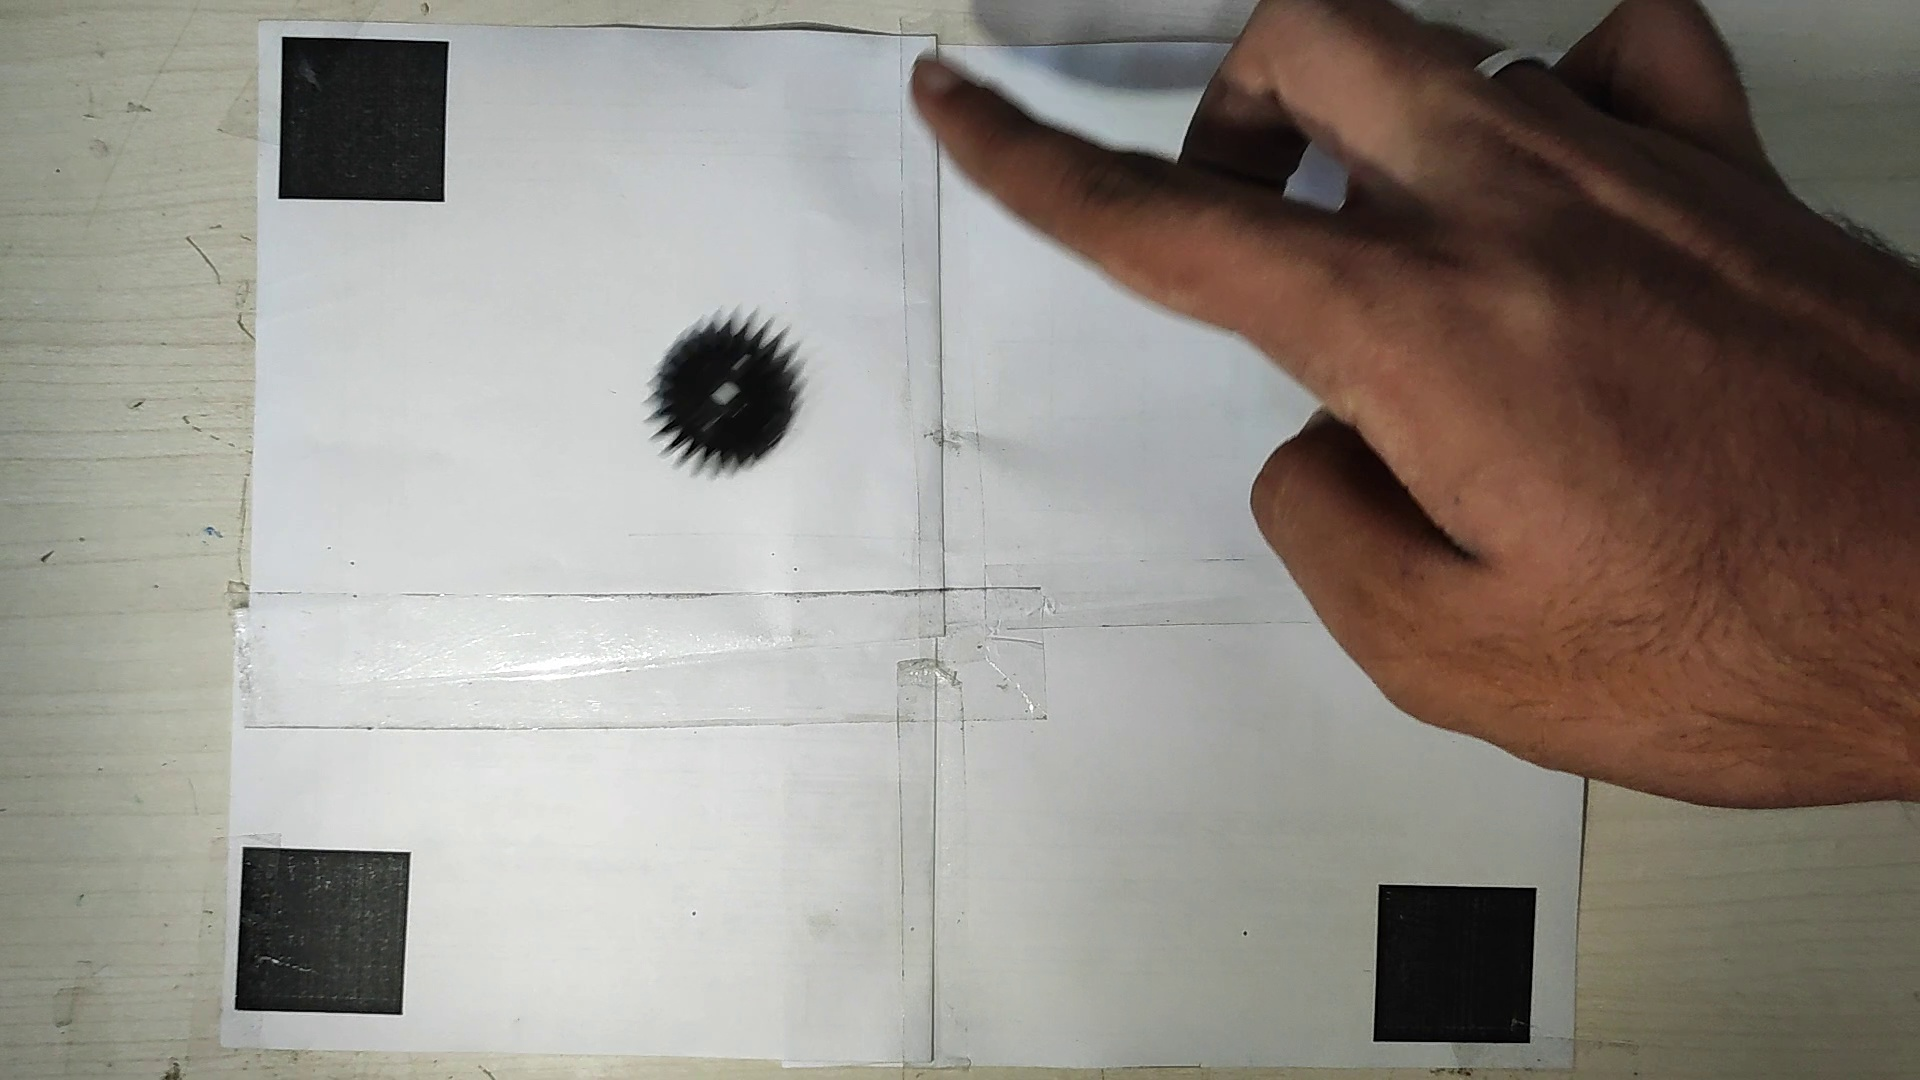Gear: (640, 311, 814, 477)
